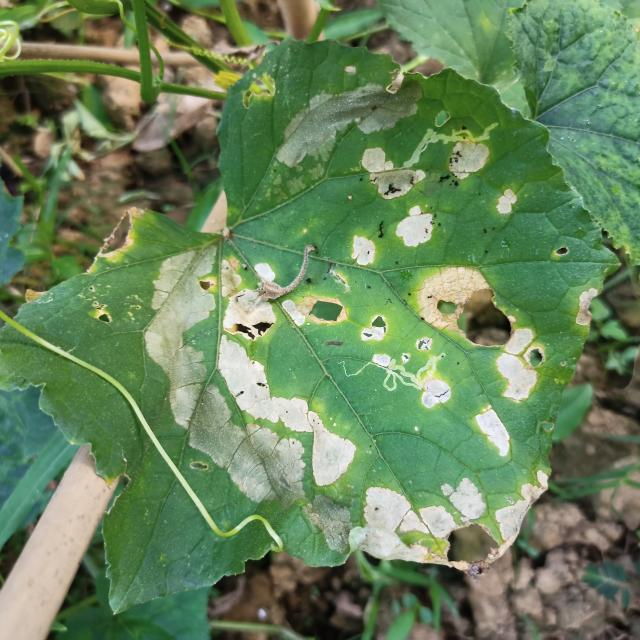disease_cucumber: (136, 242, 424, 554), (414, 261, 572, 568), (281, 83, 525, 264)
